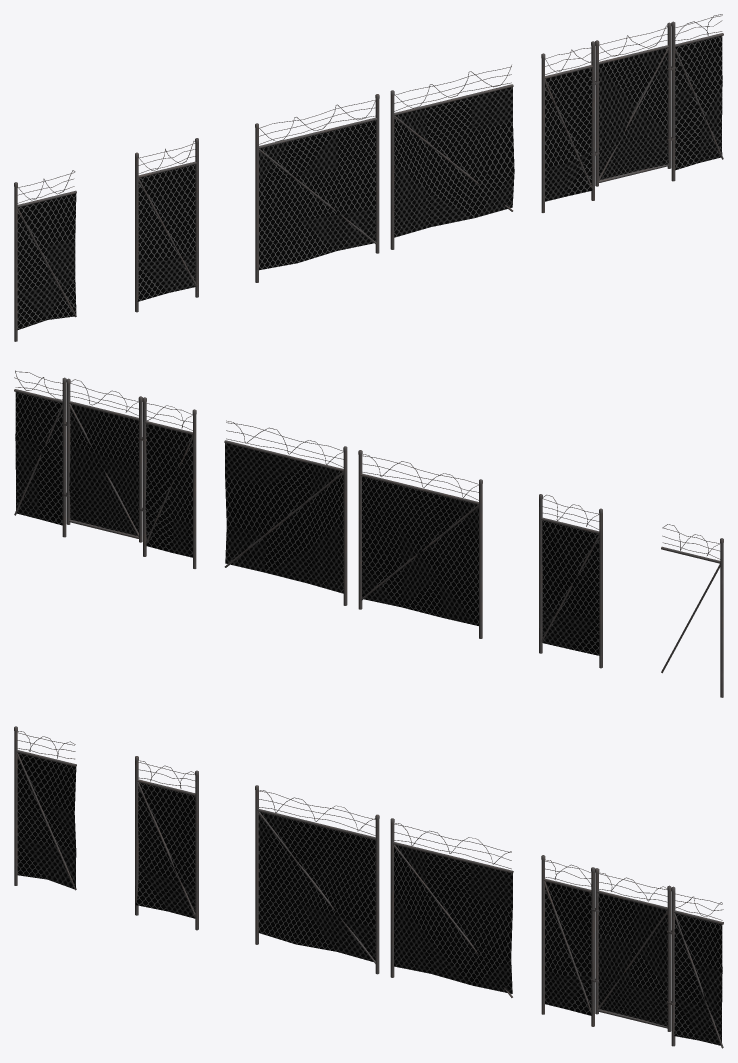
File: prop-fence-chain-link.glb
The picture shows the model from 3 angles, top to bottom: view 1: azimuth 30°, elevation 25°; view 2: azimuth 150°, elevation 25°; view 3: azimuth 330°, elevation 25°; orthographic projection.
Visible parts, largest first — view 1: prop-fence-chain-link-gate, prop-fence-chain-link-large, prop-fence-chain-link-large-part, prop-fence-chain-link-small, prop-fence-chain-link-small-part; view 2: prop-fence-chain-link-gate, prop-fence-chain-link-large, prop-fence-chain-link-large-part, prop-fence-chain-link-small, prop-fence-chain-link-small-part; view 3: prop-fence-chain-link-gate, prop-fence-chain-link-large, prop-fence-chain-link-large-part, prop-fence-chain-link-small, prop-fence-chain-link-small-part.
Boxes of the visible parts, bbox=[...] form: prop-fence-chain-link-gate: bbox=[541, 14, 723, 212]; prop-fence-chain-link-large: bbox=[255, 94, 379, 282]; prop-fence-chain-link-large-part: bbox=[390, 65, 514, 249]; prop-fence-chain-link-small: bbox=[135, 138, 198, 312]; prop-fence-chain-link-small-part: bbox=[14, 170, 76, 341]; prop-fence-chain-link-gate: bbox=[14, 370, 196, 568]; prop-fence-chain-link-large: bbox=[358, 450, 482, 638]; prop-fence-chain-link-large-part: bbox=[224, 420, 347, 605]; prop-fence-chain-link-small: bbox=[539, 494, 602, 668]; prop-fence-chain-link-small-part: bbox=[661, 524, 723, 697]; prop-fence-chain-link-gate: bbox=[541, 855, 723, 1048]; prop-fence-chain-link-large: bbox=[255, 785, 379, 974]; prop-fence-chain-link-large-part: bbox=[390, 818, 513, 997]; prop-fence-chain-link-small: bbox=[135, 756, 198, 930]; prop-fence-chain-link-small-part: bbox=[14, 726, 76, 890].
Size of the model in its own units: 23.57 by 5.04 by 0.5526.
Materials: 2 (2 with a texture image).
